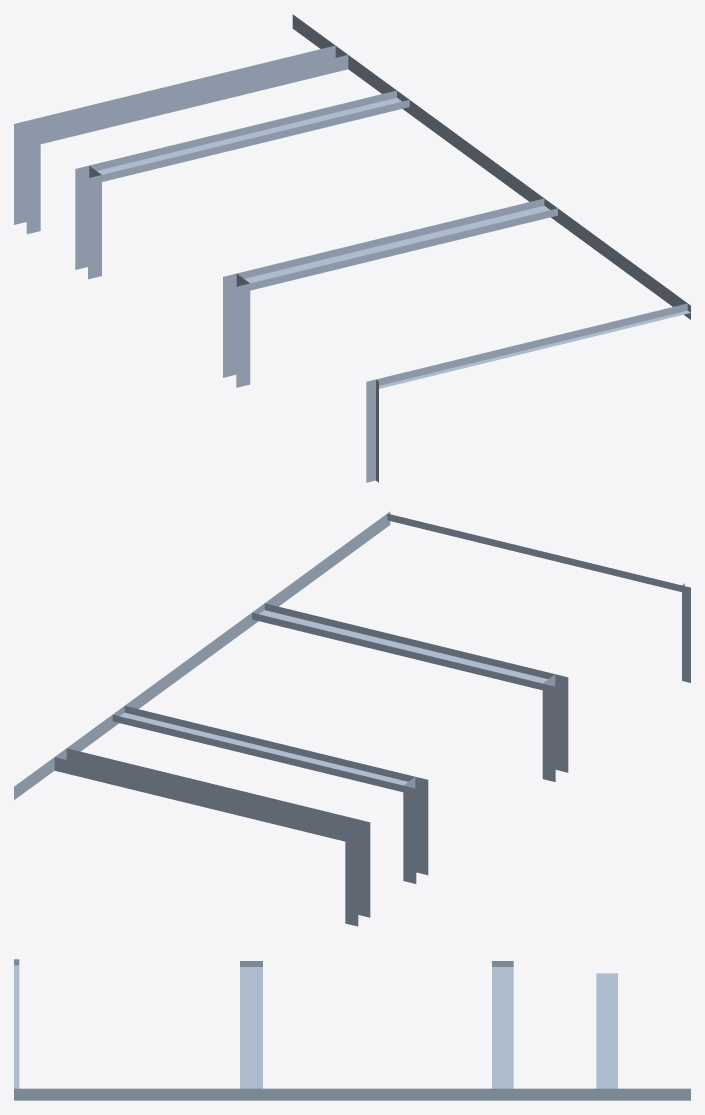
The model's file is JoonaksenLuokka_Palkkirunko.fbx.
3 renders of one model, top to bottom at view 1: azimuth 30°, elevation 25°; view 2: azimuth 150°, elevation 25°; view 3: azimuth 270°, elevation 25°, orthographic. The views are drawn at different scales.
Parts seen in each view (by area): view 1: Palkkirungot; view 2: Palkkirungot; view 3: Palkkirungot.
Boxes of the visible parts, box(x1,y1,x2,y2) form: Palkkirungot: box(14, 14, 690, 482); Palkkirungot: box(14, 511, 690, 926); Palkkirungot: box(14, 959, 690, 1100).
Bounding box in the file's own units: 1165 × 350 × 2500.
